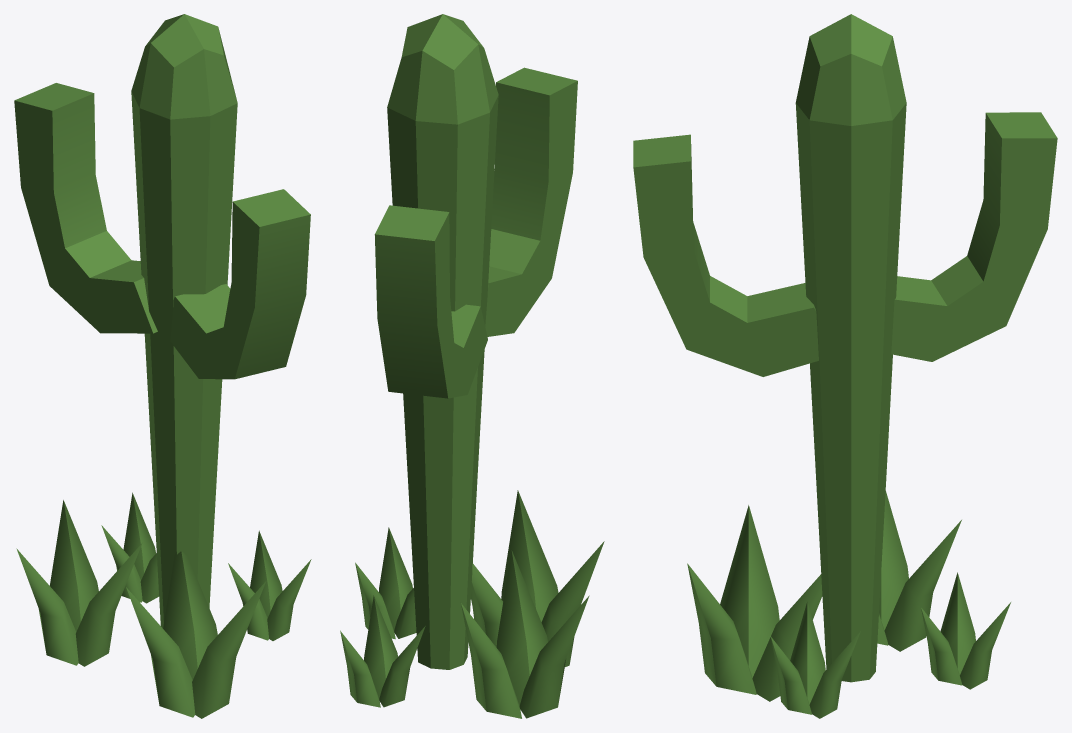
Rendered from cactus.fbx.
The picture shows the model from 3 angles, left to right: view 1: azimuth 30°, elevation 25°; view 2: azimuth 150°, elevation 25°; view 3: azimuth 270°, elevation 25°; orthographic projection. The views are drawn at different scales.
Visible parts, largest first — view 1: cactus; view 2: cactus; view 3: cactus.
Boxes of the visible parts, x1,y1,x2,y2 form: cactus: [14, 14, 311, 718]; cactus: [340, 14, 604, 718]; cactus: [633, 14, 1057, 718].
Size of the model in its own units: 1214 by 3082 by 1714.
